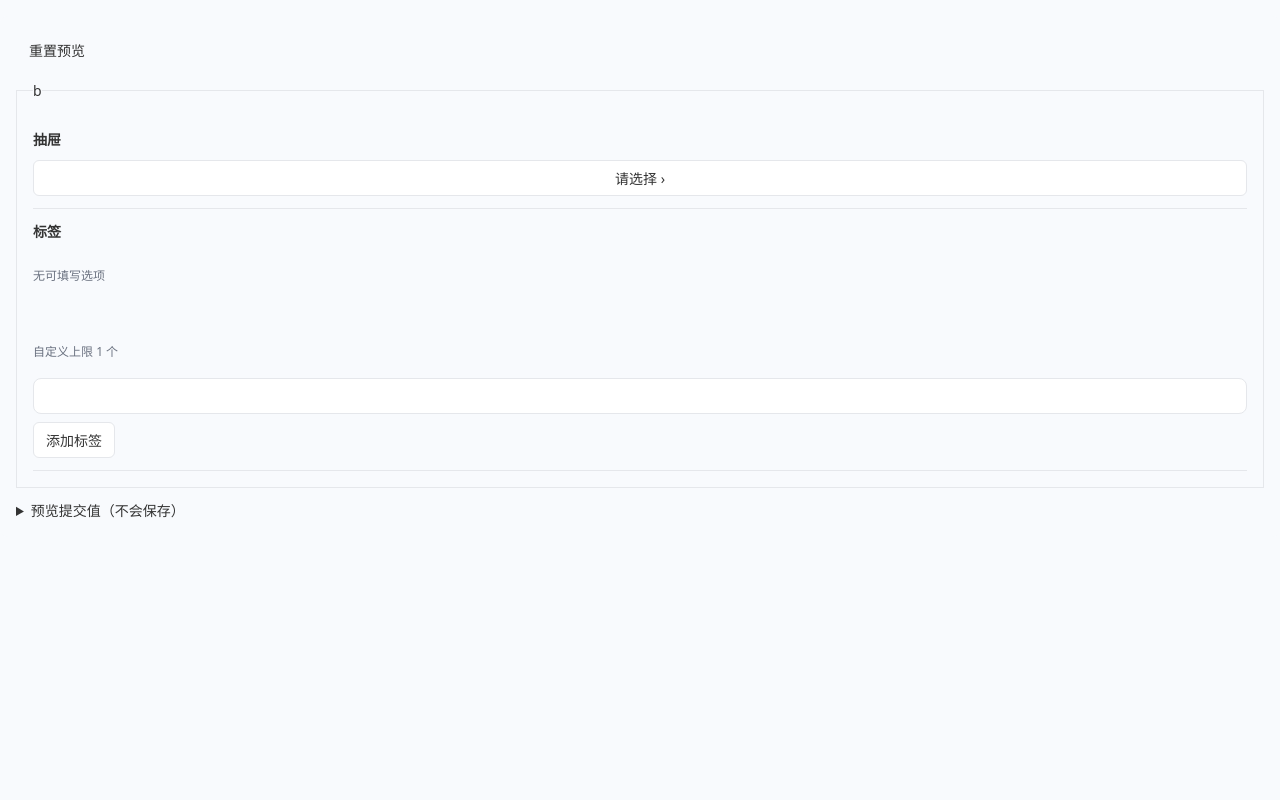
面板取消不提交，确定后提交
Click the button "请选择 ›" at (640,178), box [33,160,1247,196]
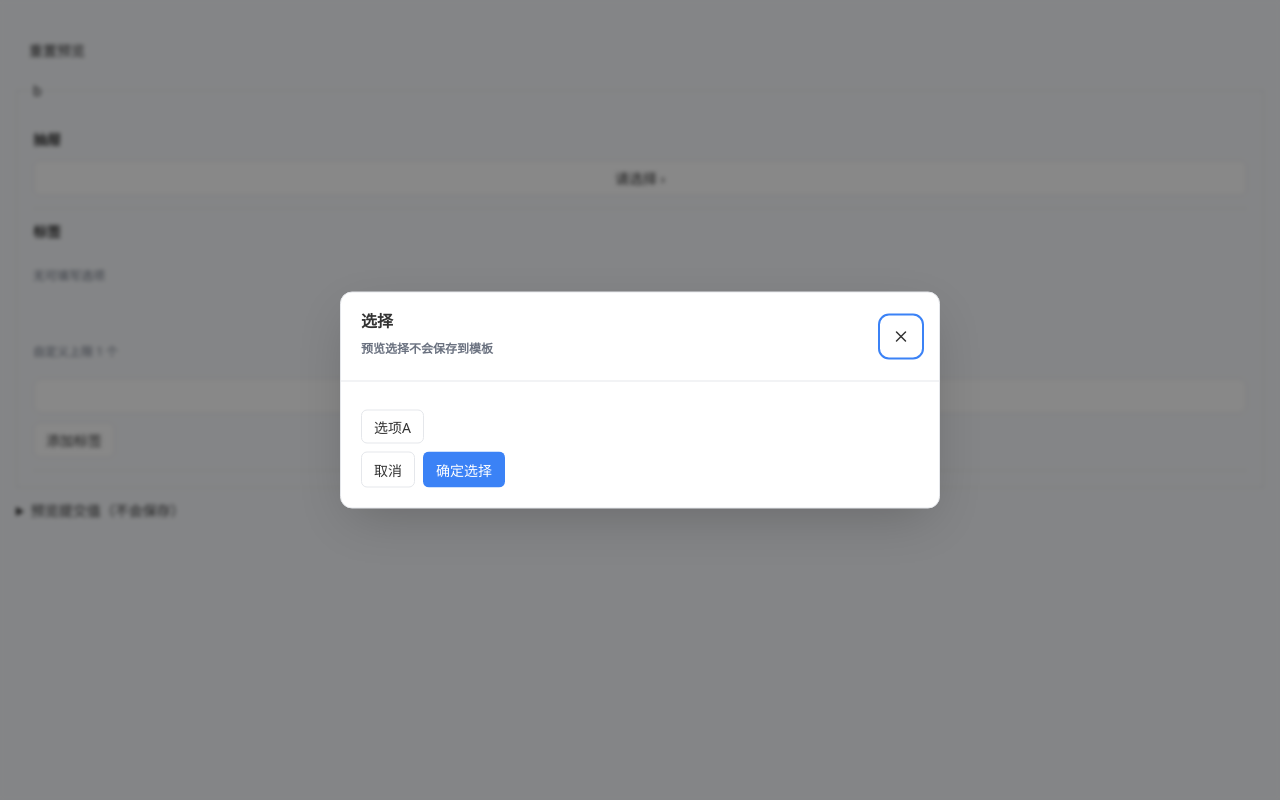
Click the button "选项A" at (392,426), box [361,410,424,444]
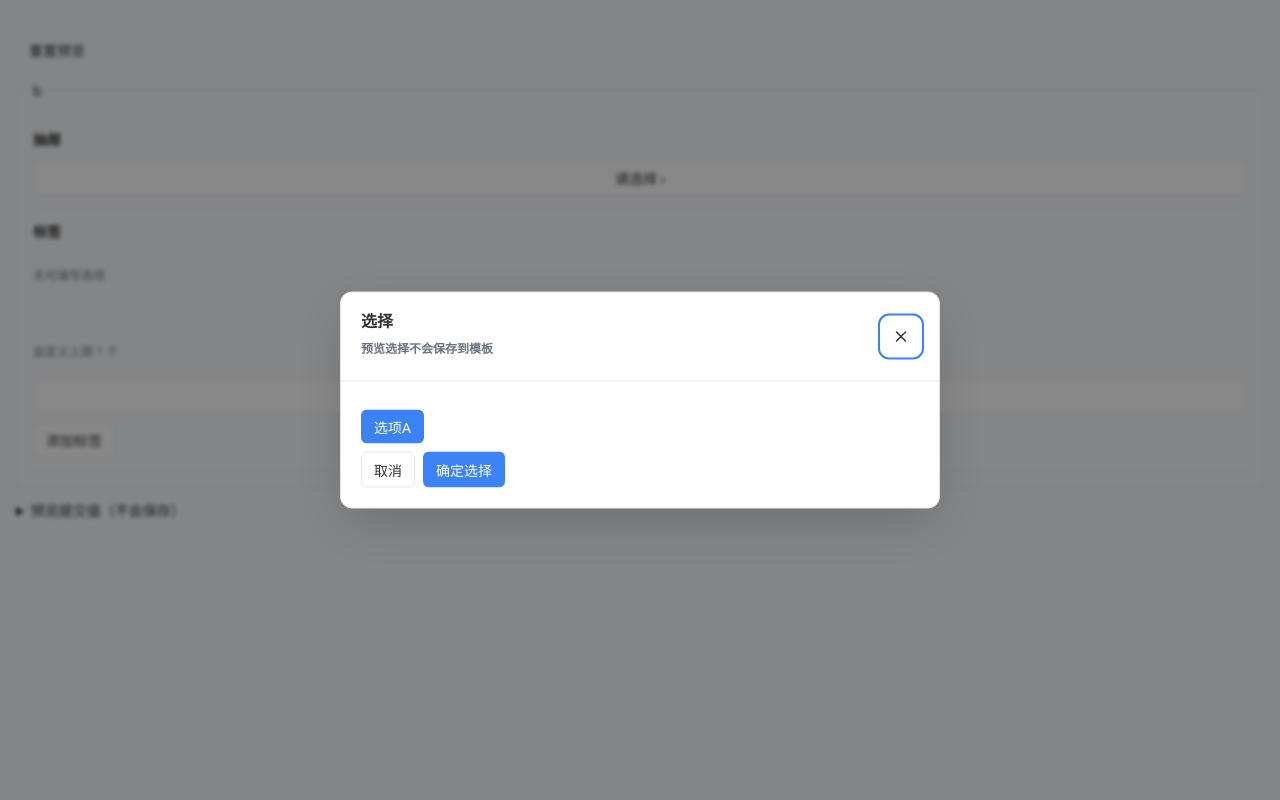
Click the button "取消" at (388,470), box [361,452,415,488]
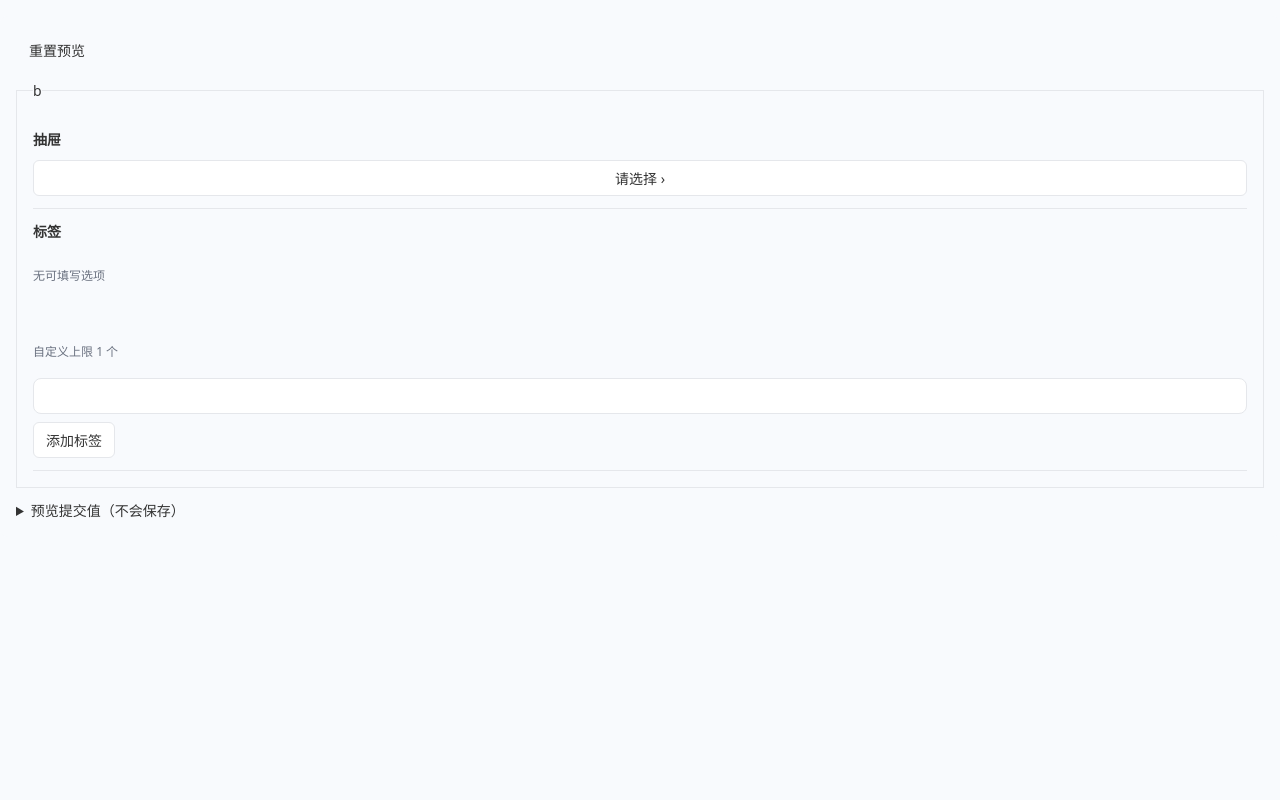
Click the button "请选择 ›" at (640,178), box [33,160,1247,196]
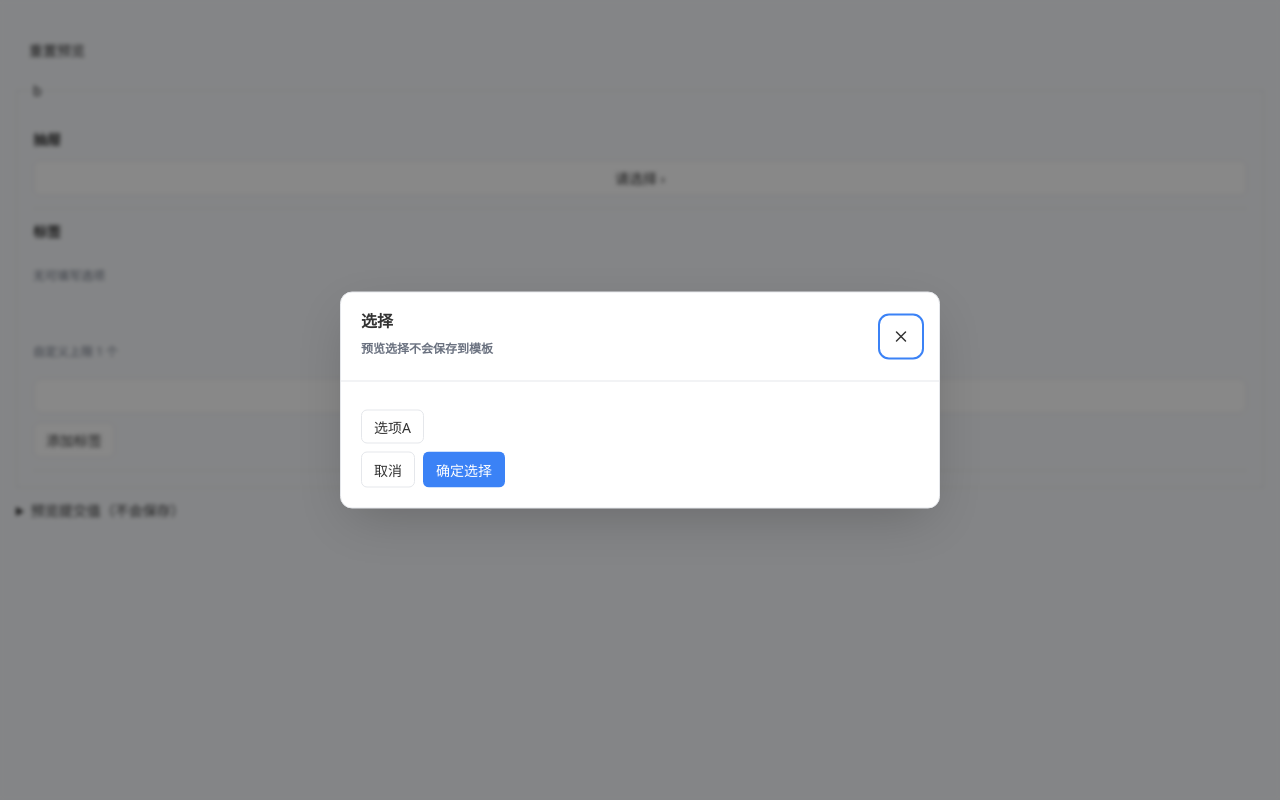
Click the button "选项A" at (392,426), box [361,410,424,444]
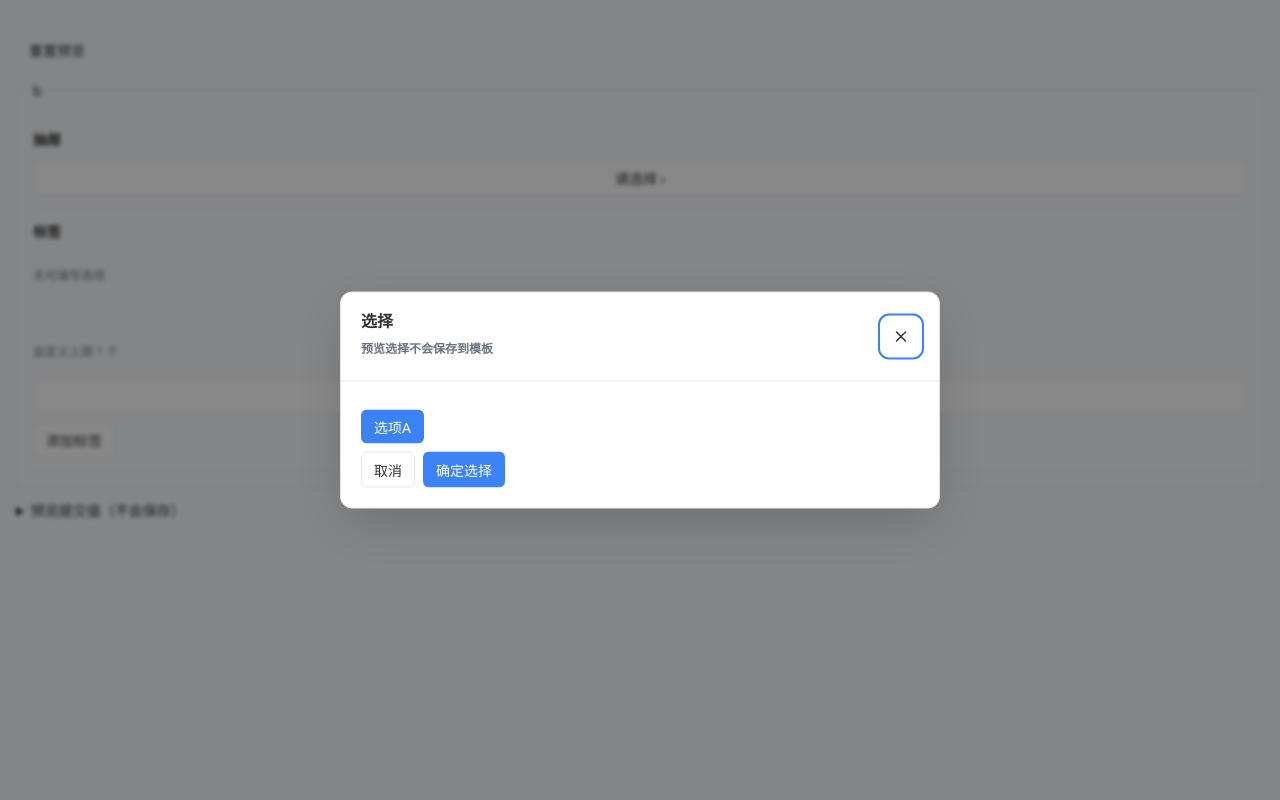
Click the button "确定选择" at (464,470), box [423,452,505,488]
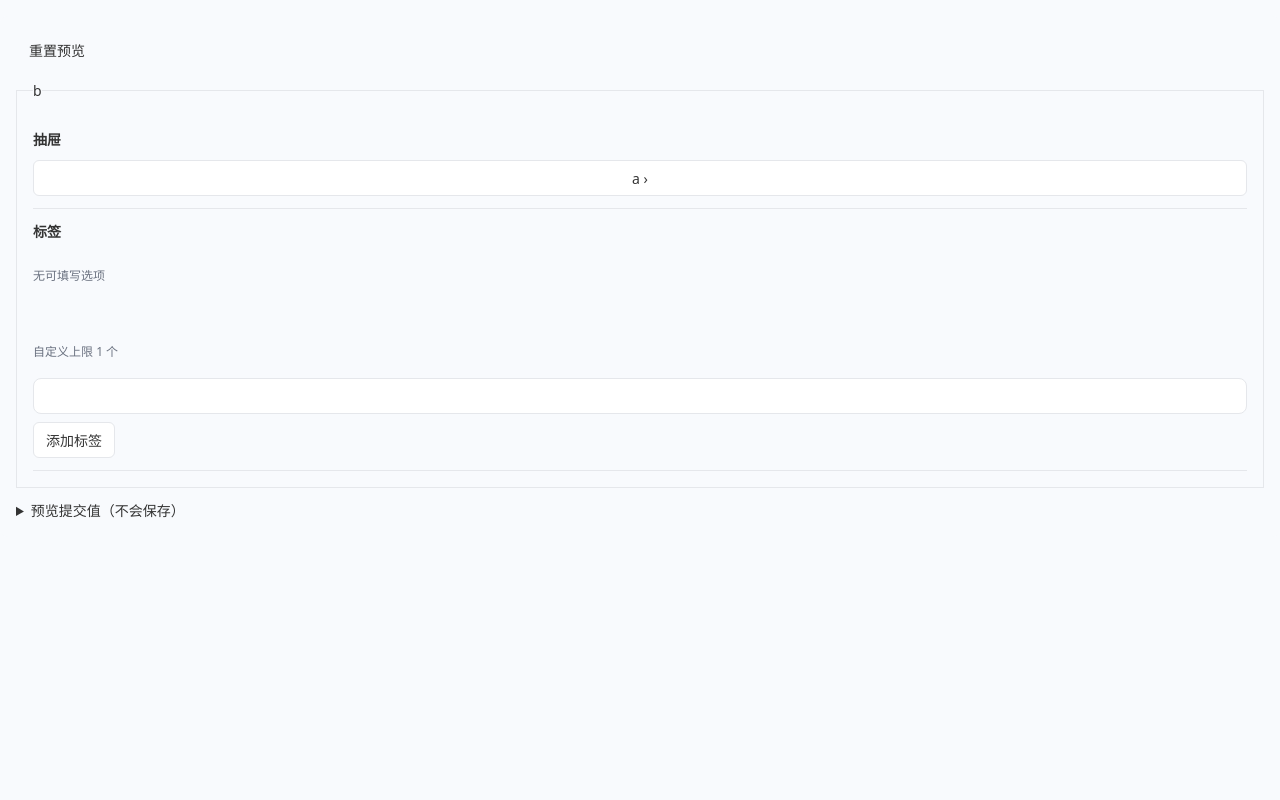
Expected: the button "a ›" is shown, [33,160,1247,196]
